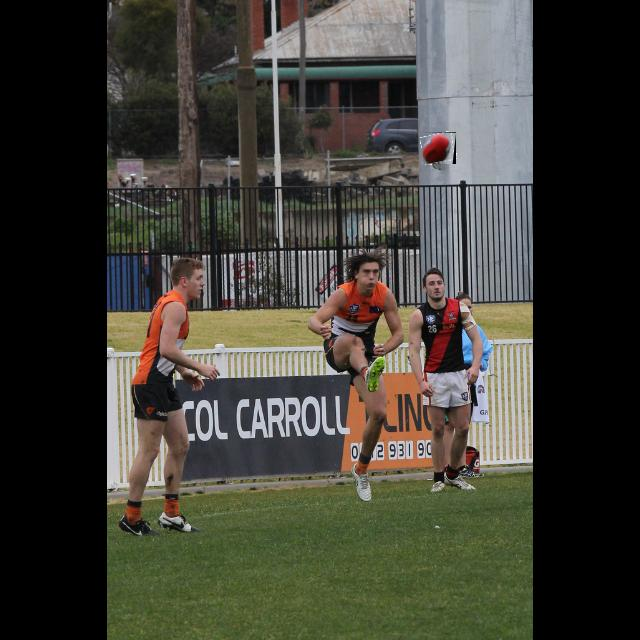Football: (422, 132, 456, 164)
